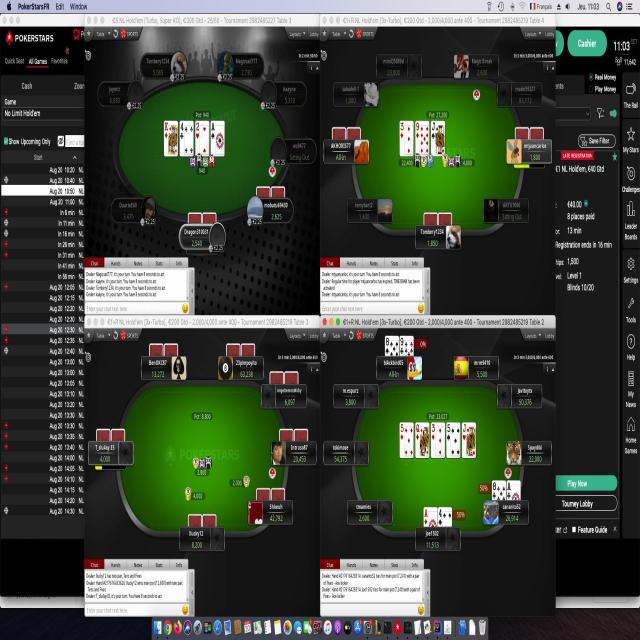2H: (194, 118, 201, 139)
3D: (430, 421, 438, 443), (399, 119, 406, 142)
4C: (179, 119, 186, 141)
4S: (437, 506, 444, 526)
5D: (398, 418, 405, 442)
5S: (446, 422, 452, 442)
8C: (491, 480, 497, 498)
8S: (384, 336, 390, 354)
9C: (399, 335, 405, 355)
9D: (415, 120, 421, 140)
AC: (507, 483, 512, 498)
AD: (423, 506, 430, 526)
AS: (210, 120, 216, 140)
JH: (462, 422, 467, 442)
JS: (430, 118, 437, 139)
KD: (163, 120, 170, 140)
QD: (414, 422, 421, 442)
